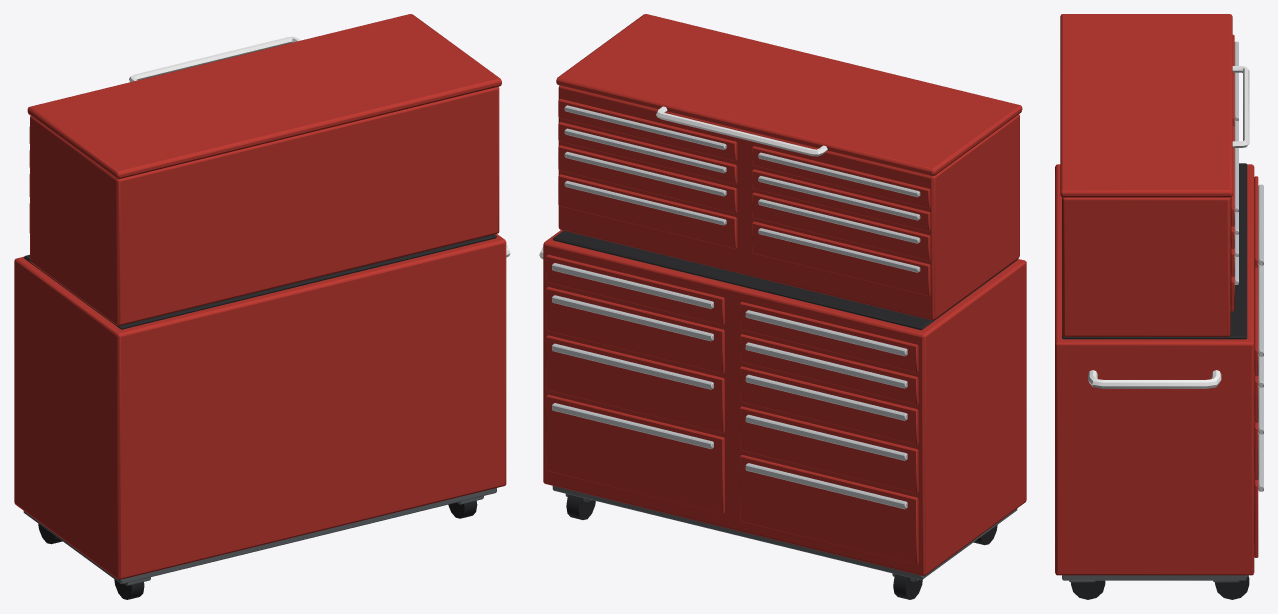
Rendered from tool_chest.glb.
3 renders of one model, left to right at view 1: azimuth 30°, elevation 25°; view 2: azimuth 150°, elevation 25°; view 3: azimuth 270°, elevation 25°, orthographic. The views are drawn at different scales.
Parts seen in each view (by area): view 1: tool_chest; view 2: tool_chest; view 3: tool_chest.
Part boxes in pixels (box(x1,y1,x2,y2)): tool_chest: box(14, 14, 510, 599); tool_chest: box(539, 14, 1026, 599); tool_chest: box(1055, 14, 1263, 599).
Size of the model in its own units: 6.62 by 6.72 by 3.04.
